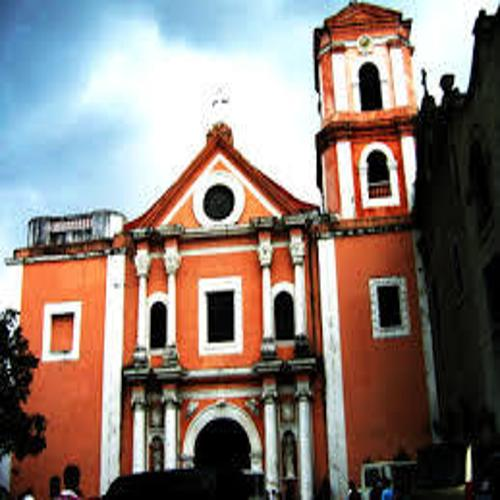San Agustin Church: (124, 6, 434, 491)
